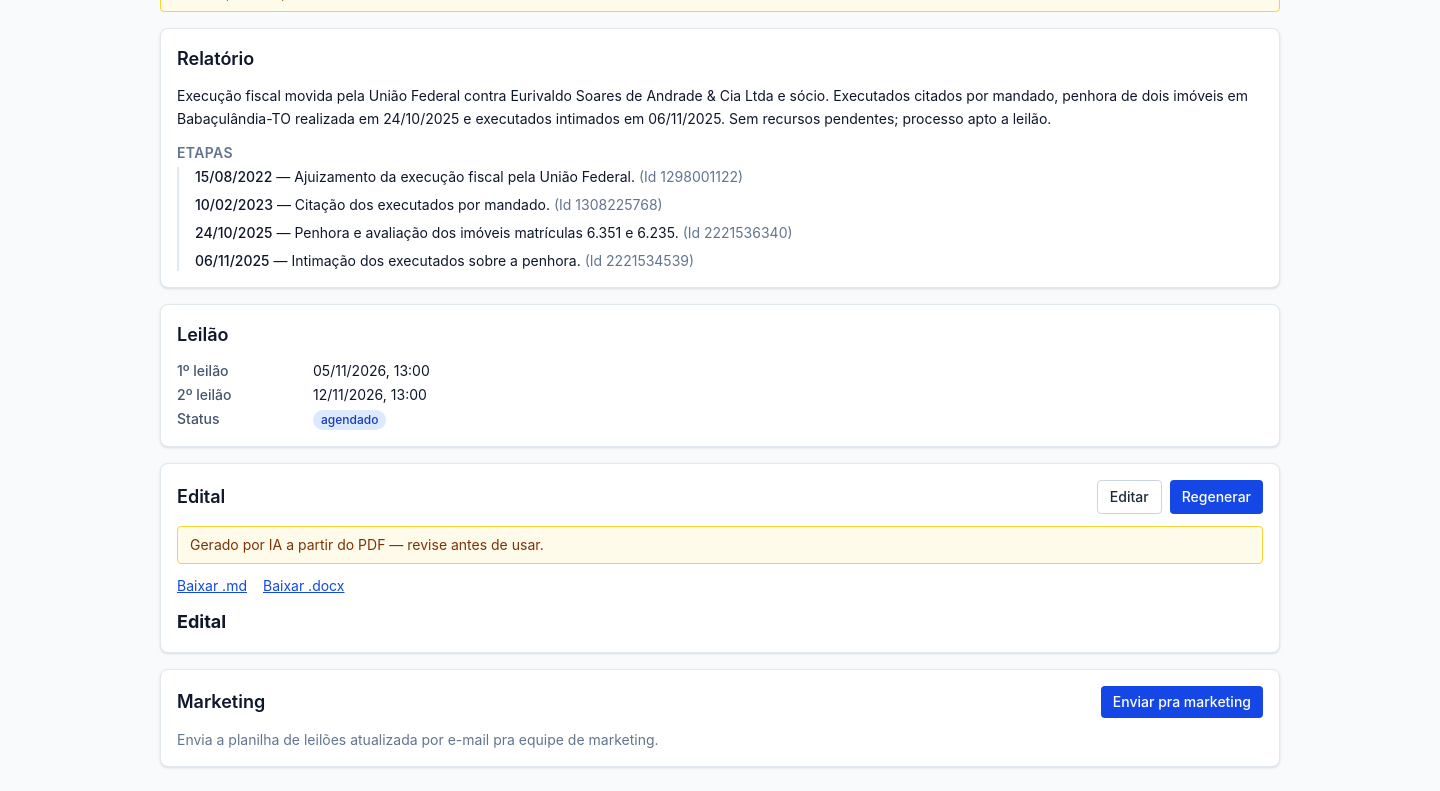
EditalCard › conteúdo vazio desabilita o salvar
(page scrolled)
Expected: the element named "Conteúdo do edital" is shown, [177, 610, 226, 632]
Click the button "Editar": {"x": 1129, "y": 496} [1097, 480, 1162, 514]
(page scrolled)
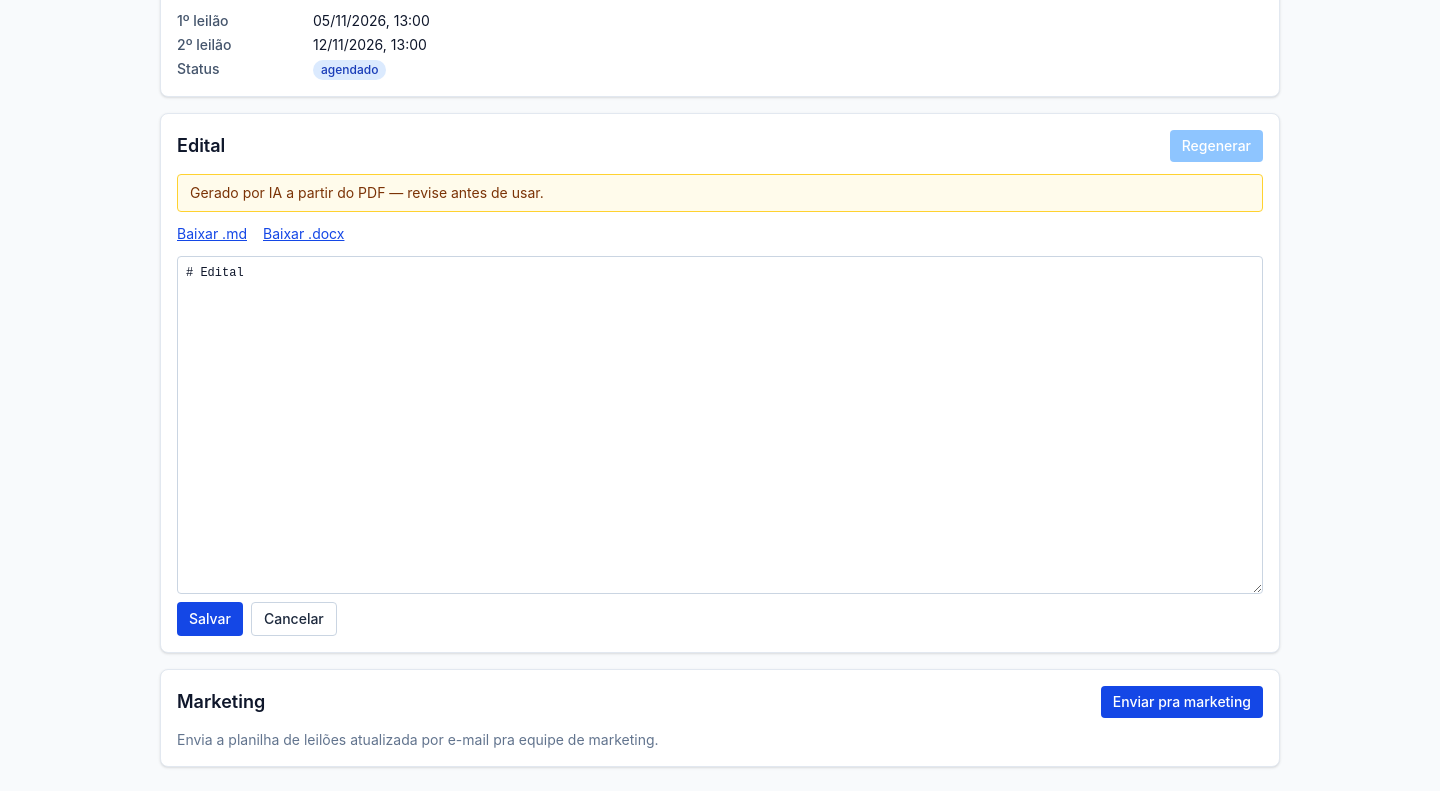
Clear the text box named "Conteúdo do edital em Markdown": {"x": 720, "y": 424} [177, 256, 1263, 594]
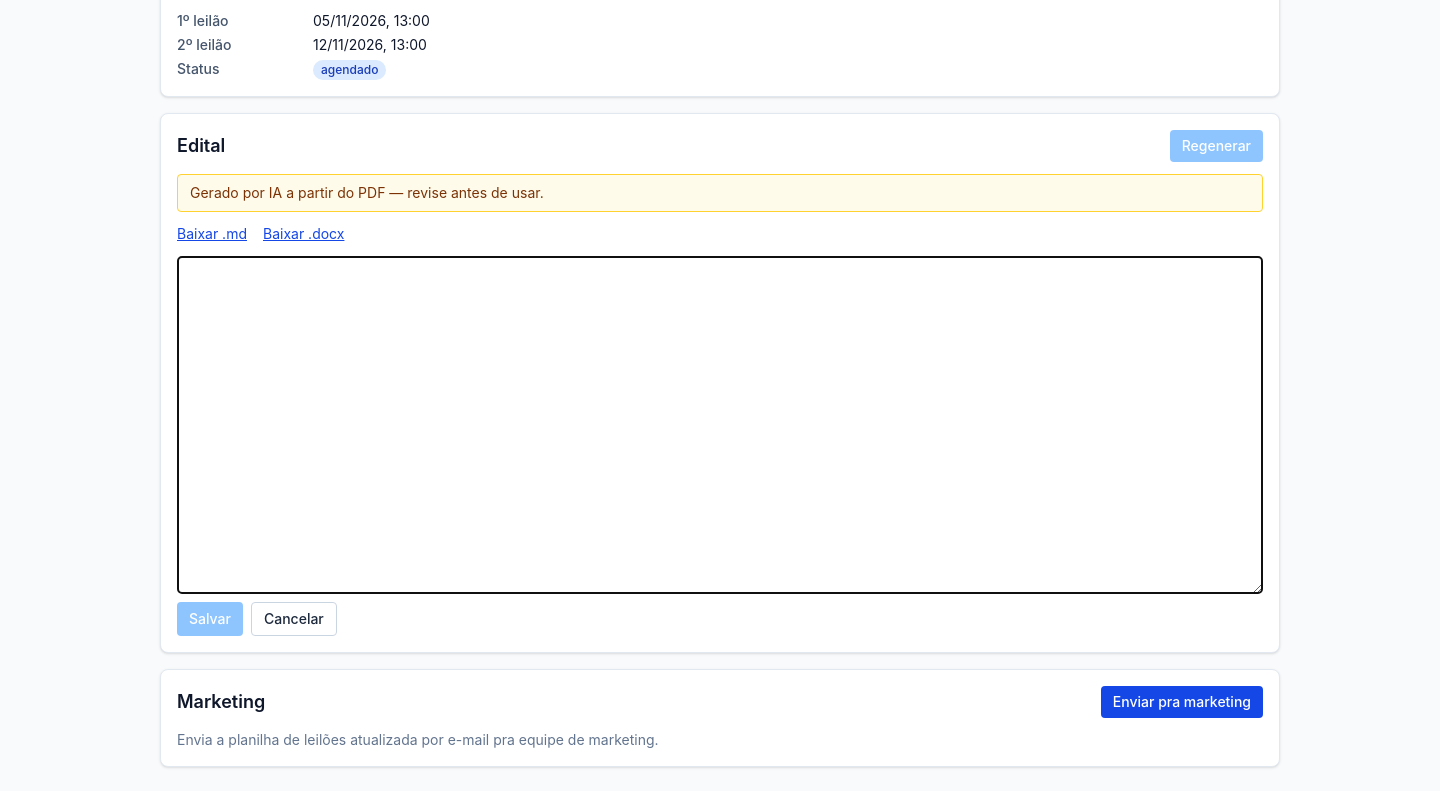
Expected: the button "Salvar" is disabled, [177, 602, 243, 636]
